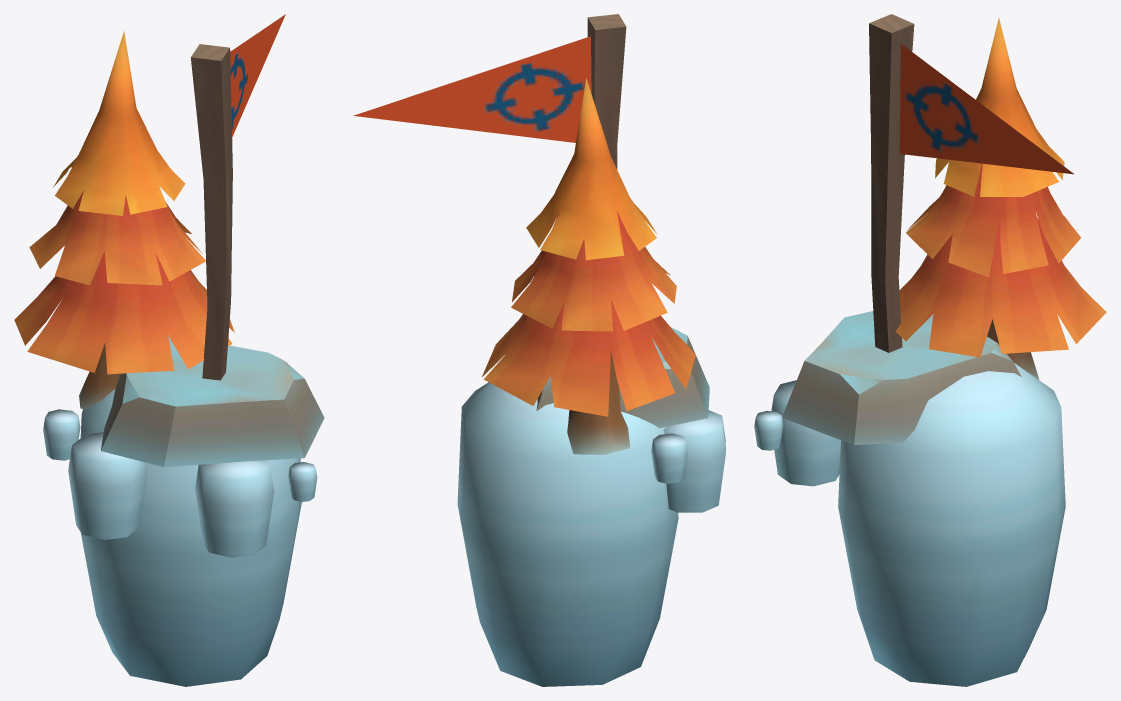
File: Obstacle1B-004_02_11_9459.fbx
3 views of the same model, side by side, from view 1: azimuth 30°, elevation 25°; view 2: azimuth 150°, elevation 25°; view 3: azimuth 270°, elevation 25° (orthographic).
Parts seen in each view (by area): view 1: Tree2 (1), Snowpile (1), Rock (1), Wood1.002 (1), Snowpile (3), Snowpile (5), Flag1.001 (1), Snowpile (2), Snowpile (4); view 2: Snowpile (1), Tree2 (1), Flag1.001 (1), Snowpile (5), Wood1.002 (1), Rock (1), Snowpile (2); view 3: Snowpile (1), Tree2 (1), Rock (1), Wood1.002 (1), Flag1.001 (1), Snowpile (3), Snowpile (4).
Boxes of the visible parts, <box> form: Tree2 (1): <box>14,31,234,409</box>; Snowpile (1): <box>80,389,301,686</box>; Rock (1): <box>101,336,324,467</box>; Wood1.002 (1): <box>190,44,232,380</box>; Snowpile (3): <box>195,460,274,557</box>; Snowpile (5): <box>68,432,147,539</box>; Flag1.001 (1): <box>230,14,285,137</box>; Snowpile (2): <box>43,409,80,460</box>; Snowpile (4): <box>288,462,317,501</box>; Snowpile (1): <box>457,382,678,686</box>; Tree2 (1): <box>482,78,695,454</box>; Flag1.001 (1): <box>353,36,591,142</box>; Snowpile (5): <box>663,410,725,512</box>; Wood1.002 (1): <box>587,14,626,169</box>; Rock (1): <box>536,327,709,428</box>; Snowpile (2): <box>651,433,687,483</box>; Snowpile (1): <box>838,363,1065,686</box>; Tree2 (1): <box>895,18,1106,379</box>; Rock (1): <box>782,311,1021,444</box>; Wood1.002 (1): <box>869,14,914,352</box>; Flag1.001 (1): <box>899,43,1073,174</box>; Snowpile (3): <box>771,380,840,486</box>; Snowpile (4): <box>754,410,783,450</box>.
Bounding box in the file's own units: 2.38 × 4.76 × 2.43.
